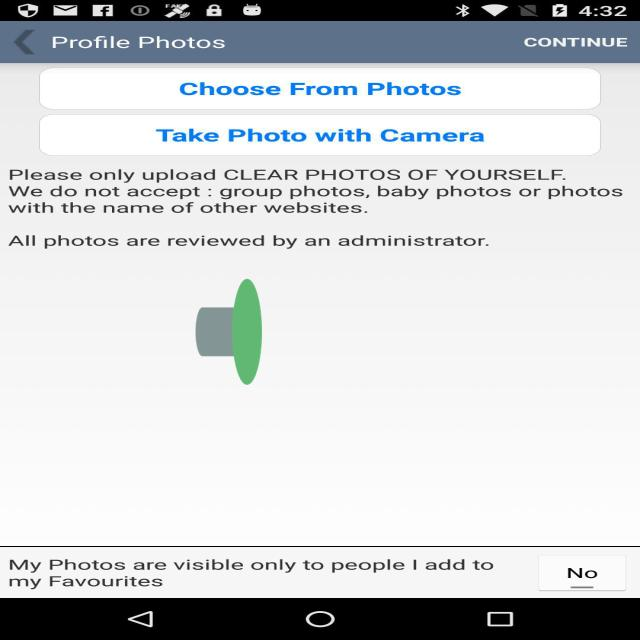social proof: (195, 214, 262, 450)
